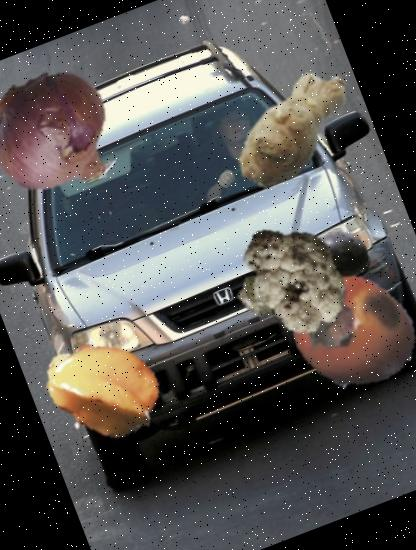Carambula: (24, 312, 180, 467)
Cauliflower: (210, 201, 368, 359)
Ginger: (201, 36, 386, 220)
Kaki: (263, 244, 416, 418)
Onion: (0, 50, 138, 217)
Plum: (297, 214, 377, 294)
Pomegranate: (62, 352, 150, 440)
